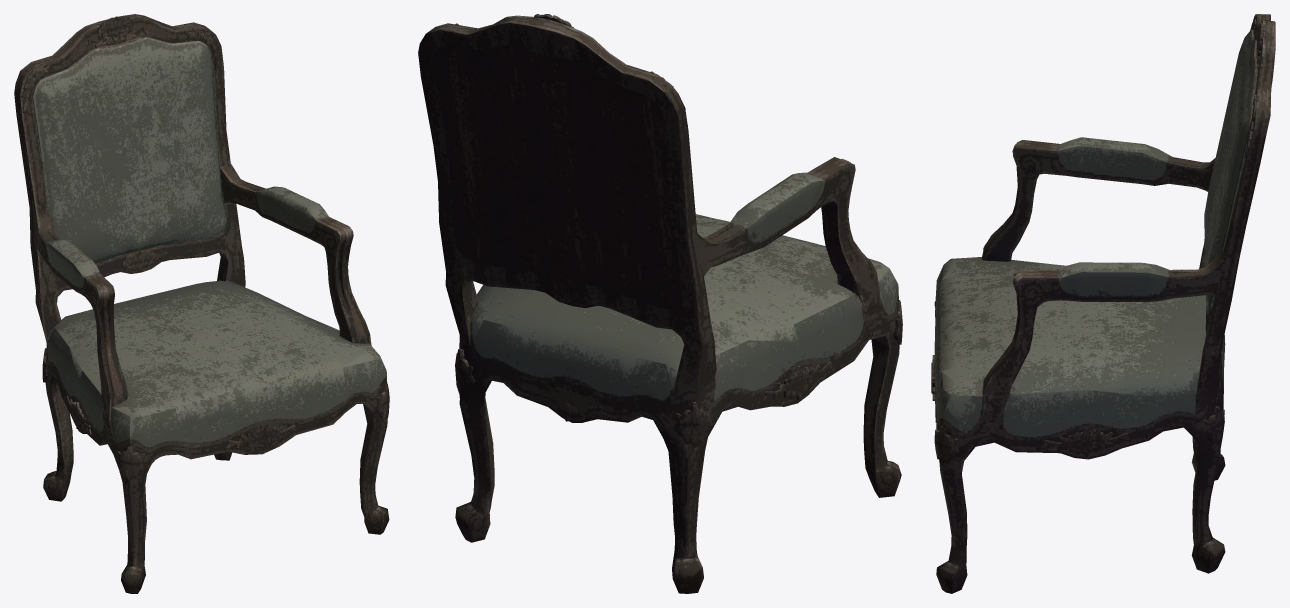
File: armchair.glb
The picture shows the model from 3 angles, left to right: view 1: azimuth 30°, elevation 25°; view 2: azimuth 150°, elevation 25°; view 3: azimuth 270°, elevation 25°; orthographic projection. The views are drawn at different scales.
Visible parts, largest first — view 1: GreenChair_01; view 2: GreenChair_01; view 3: GreenChair_01.
Boxes of the visible parts, x1,y1,x2,y2 form: GreenChair_01: [14, 14, 389, 593]; GreenChair_01: [418, 14, 902, 593]; GreenChair_01: [931, 14, 1275, 593].
Size of the model in its own units: 0.6756 by 1.06 by 0.6669.
Materials: 1 (1 with a texture image).
